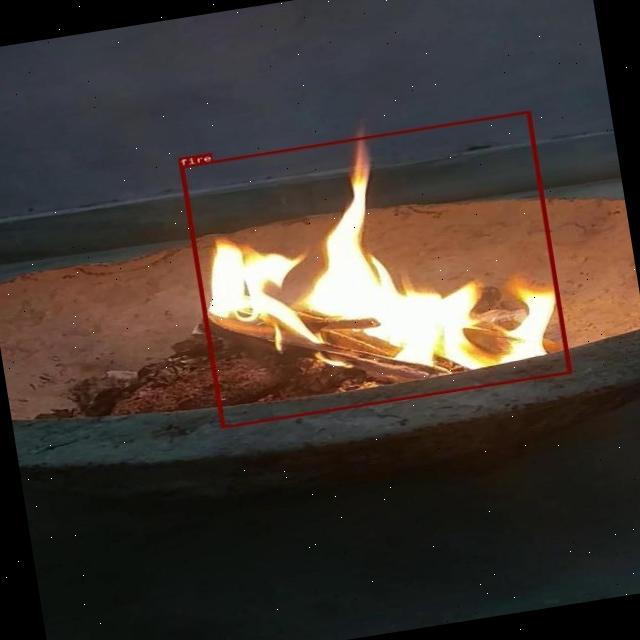fire: (179, 111, 570, 428)
